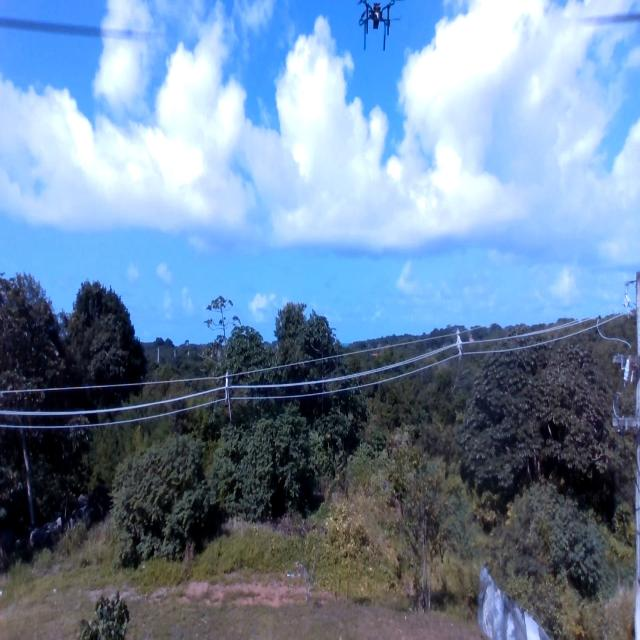-uav-: (351, 0, 400, 60)
